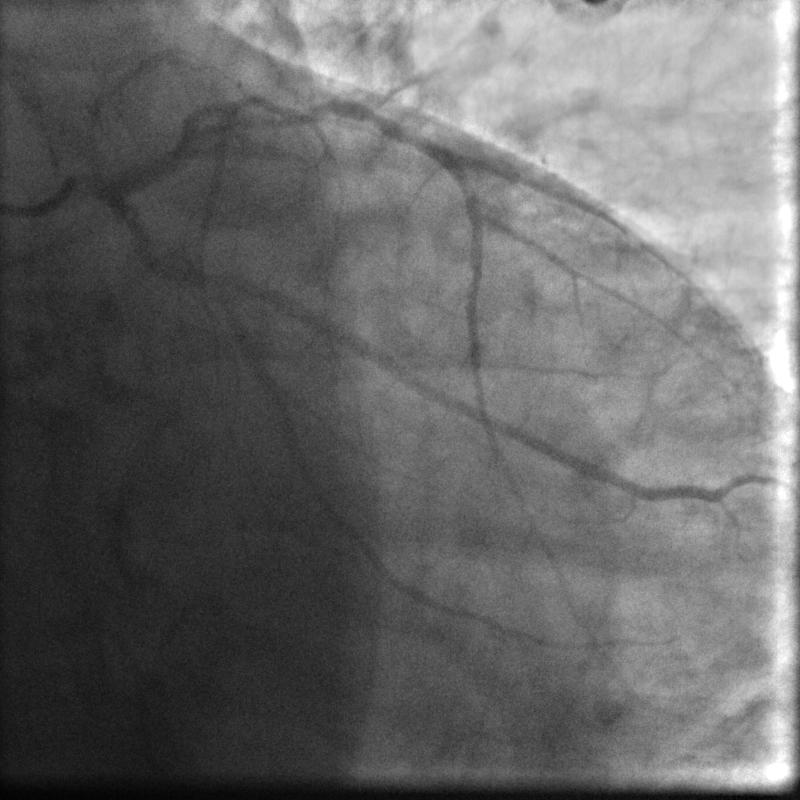Stenosis: (243, 100, 339, 129)
